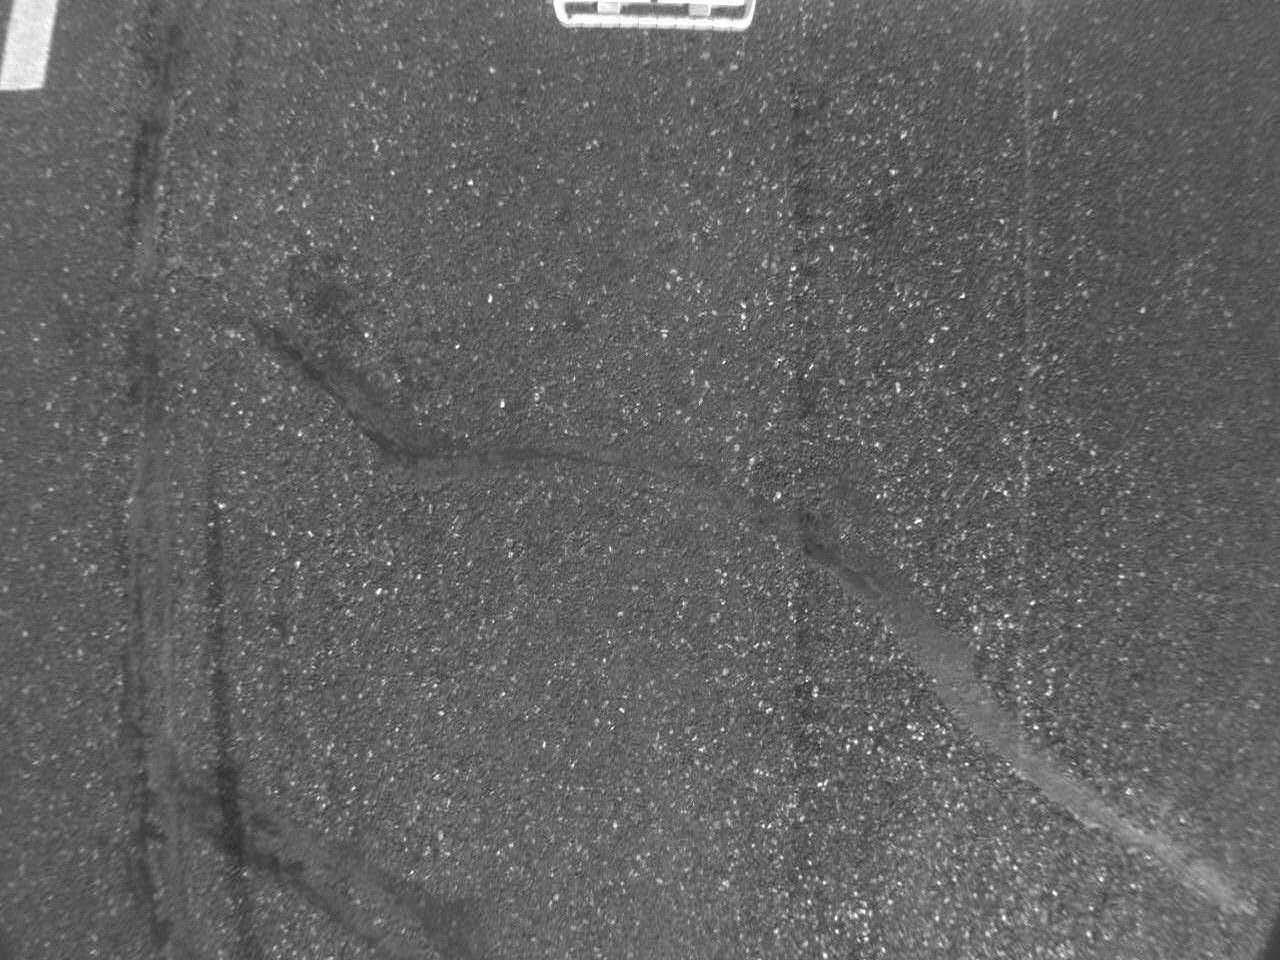sealed: (700, 460, 1258, 917)
